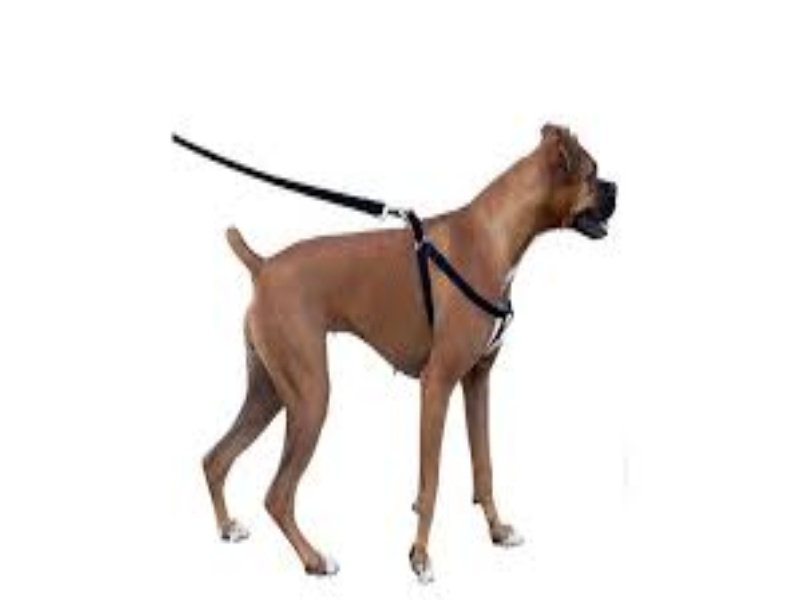dog: (201, 123, 623, 589)
